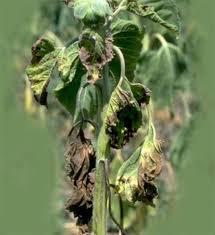Verticillium wilt: (65, 130, 95, 234), (78, 29, 113, 80), (106, 104, 141, 148), (137, 156, 160, 206), (34, 80, 49, 106)
